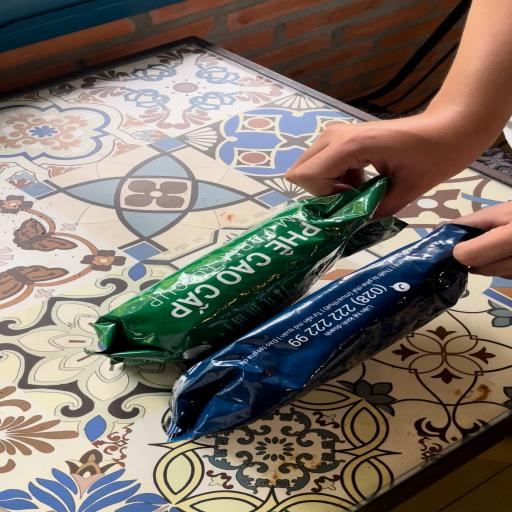cafe_hat: (167, 223, 483, 441)
cafe_xay: (86, 177, 405, 365)
